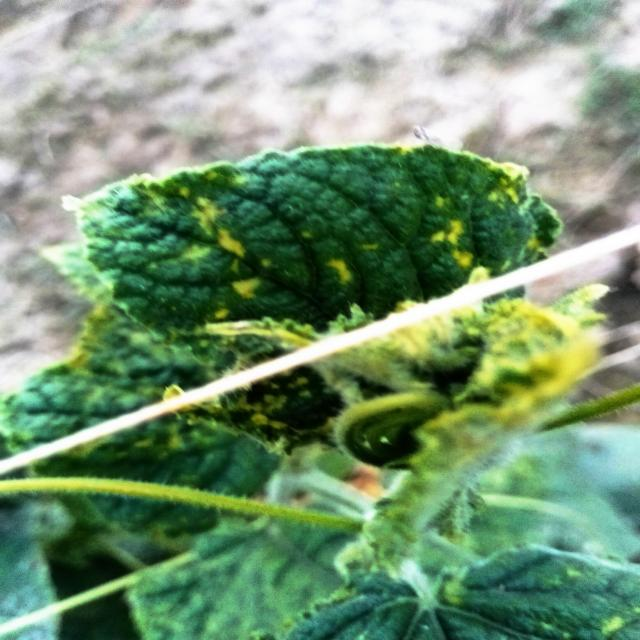Downy-Mildew: (56, 148, 565, 458)
